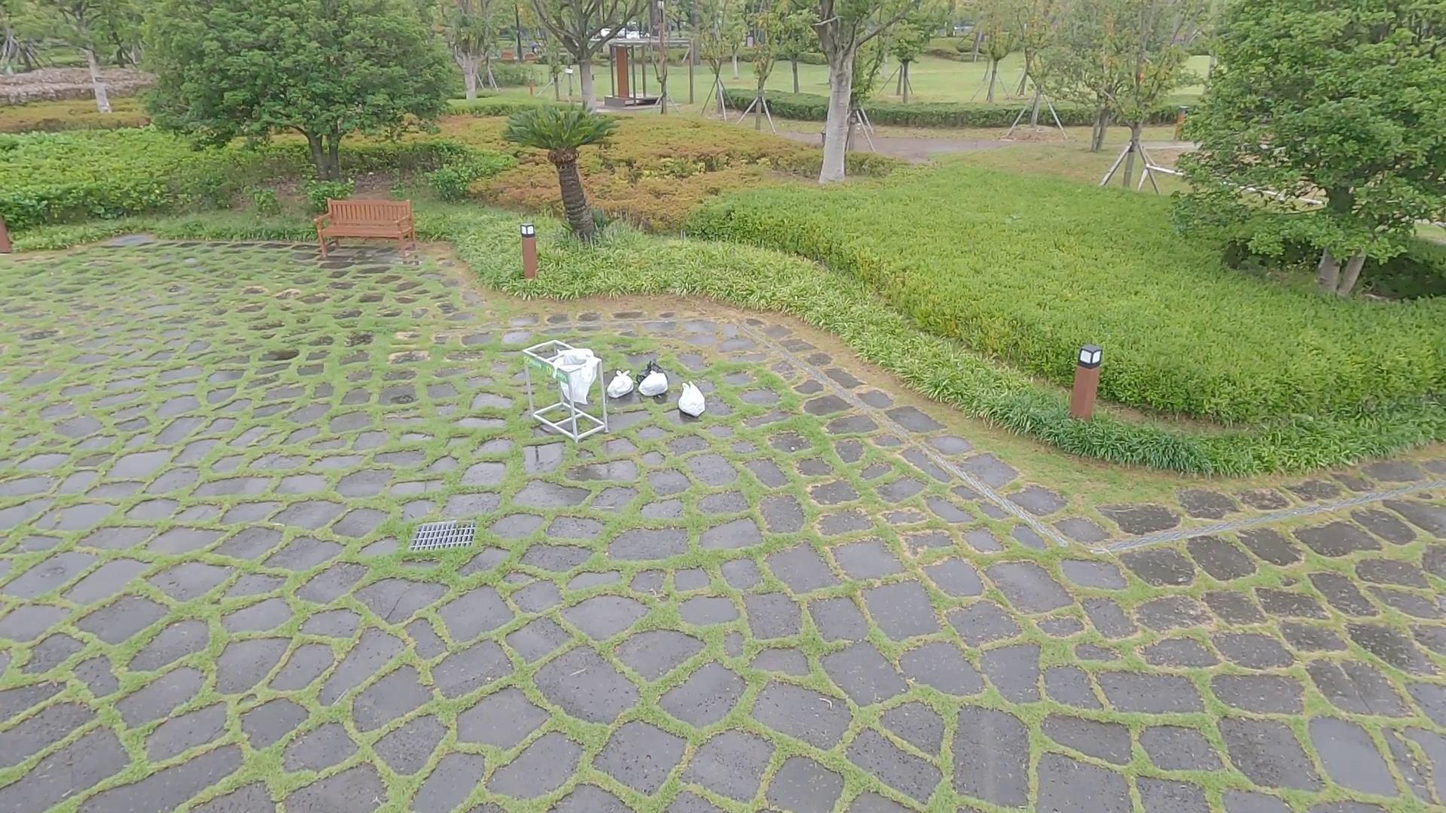trash: (679, 378, 708, 421), (636, 369, 671, 401), (640, 357, 665, 399), (610, 369, 635, 404)
